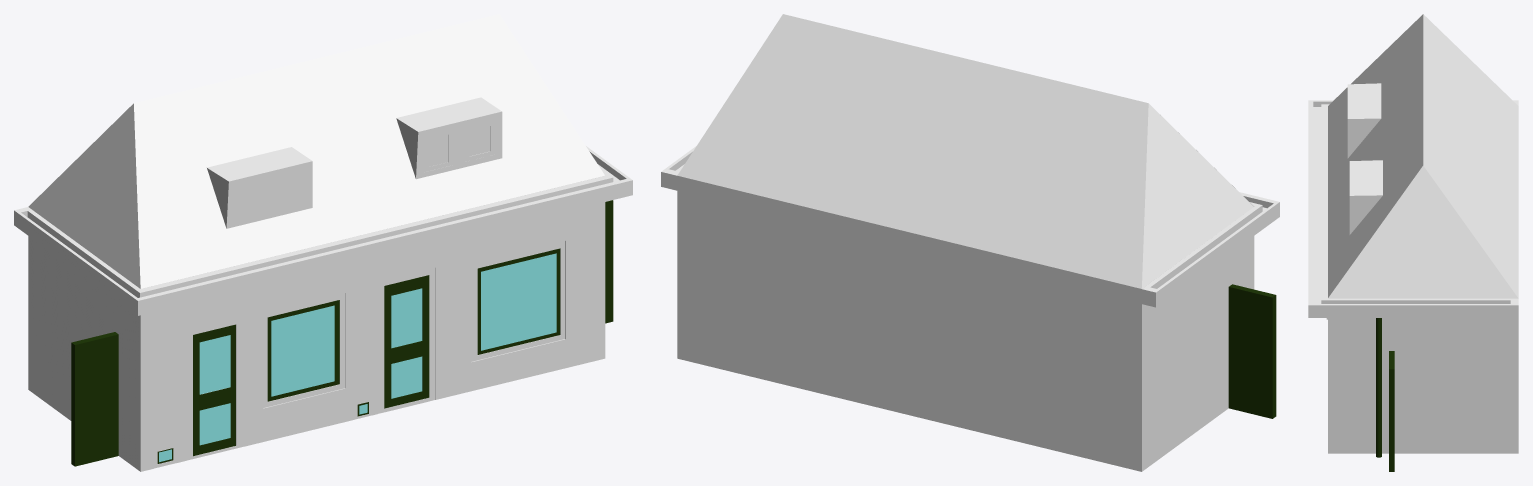
3 renders of one model, left to right at view 1: azimuth 30°, elevation 25°; view 2: azimuth 150°, elevation 25°; view 3: azimuth 270°, elevation 25°, orthographic. The views are drawn at different scales.
Visible parts, largest first — view 1: Layer0_001; view 2: Layer0_001; view 3: Layer0_001.
Boxes of the visible parts, x1,y1,x2,y2 form: Layer0_001: [14, 14, 632, 471]; Layer0_001: [661, 14, 1279, 471]; Layer0_001: [1308, 14, 1518, 471].
Bounding box in the file's own units: 40938 × 22345 × 15894.
